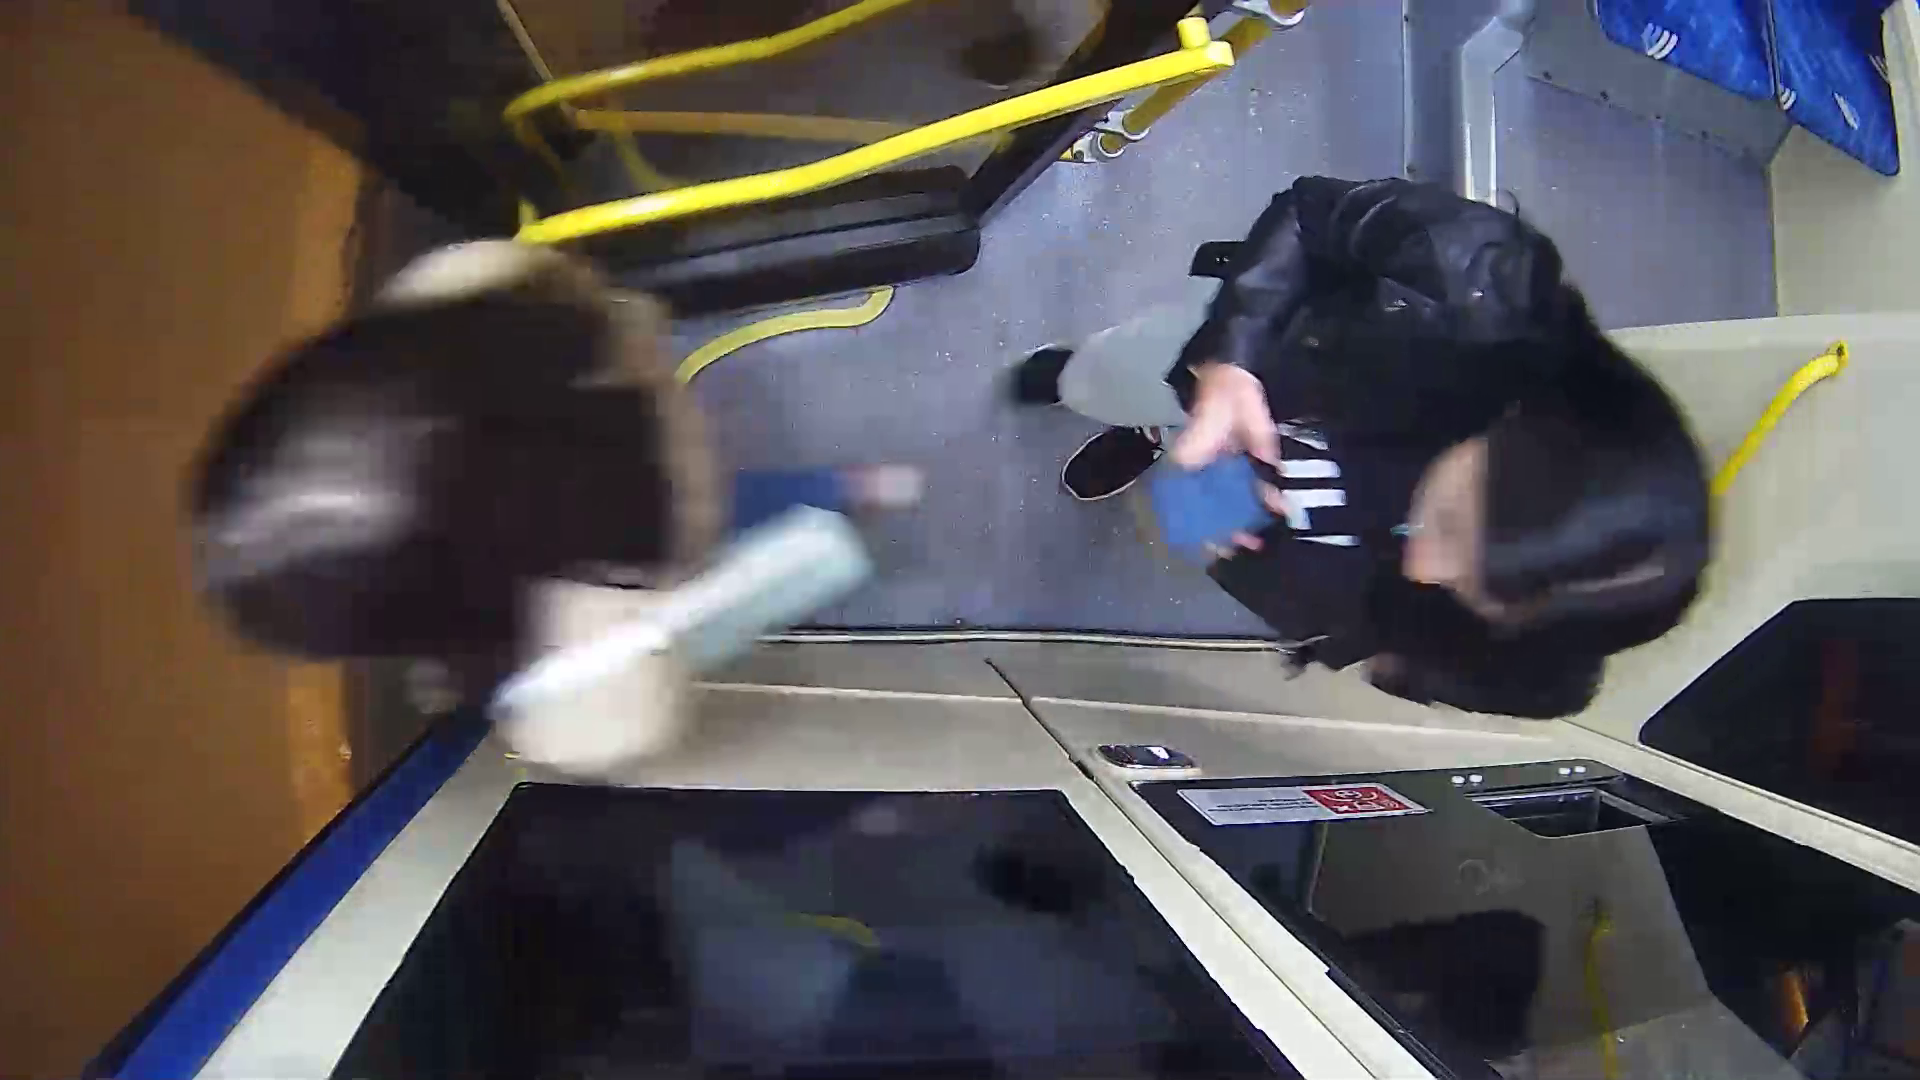person: (159, 217, 928, 799), (1061, 165, 1756, 744)
